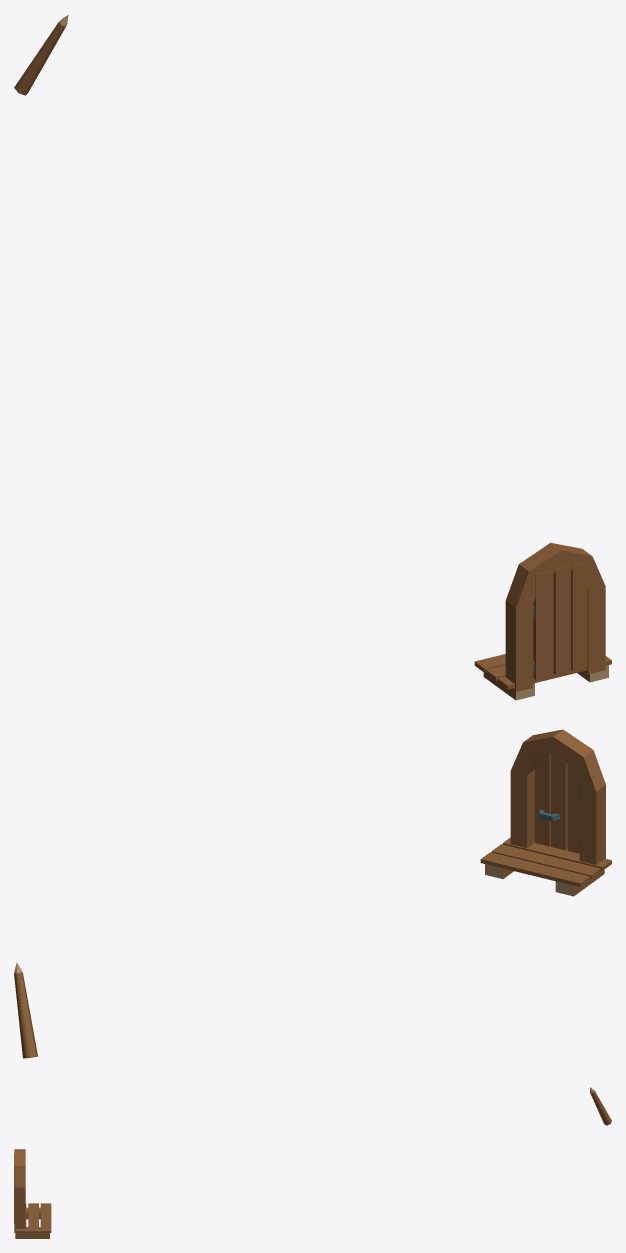
3 renders of one model, top to bottom at view 1: azimuth 30°, elevation 25°; view 2: azimuth 150°, elevation 25°; view 3: azimuth 270°, elevation 25°, orthographic. The views are drawn at different scales.
Visible parts, largest first — view 1: Object026_brown_0, Cylinder1643_brown_0, Plane305_brown_0; view 2: Object026_brown_0, Plane305_brown_0, Cylinder1643_brown_0; view 3: Object026_brown_0, Plane305_brown_0, Cylinder1643_brown_0, Box15345_brown_0.
Part boxes in pixels (box(x1,y1,x2,y2)): Object026_brown_0: box(505, 542, 605, 691); Cylinder1643_brown_0: box(14, 22, 65, 95); Plane305_brown_0: box(474, 654, 611, 689); Object026_brown_0: box(510, 729, 605, 864); Plane305_brown_0: box(480, 837, 611, 887); Cylinder1643_brown_0: box(14, 972, 37, 1058); Object026_brown_0: box(14, 1149, 25, 1232); Plane305_brown_0: box(15, 1203, 51, 1232); Cylinder1643_brown_0: box(590, 1090, 611, 1125); Box15345_brown_0: box(15, 1227, 49, 1238).
Bounding box in the file's own units: 218 × 552 × 2001.
